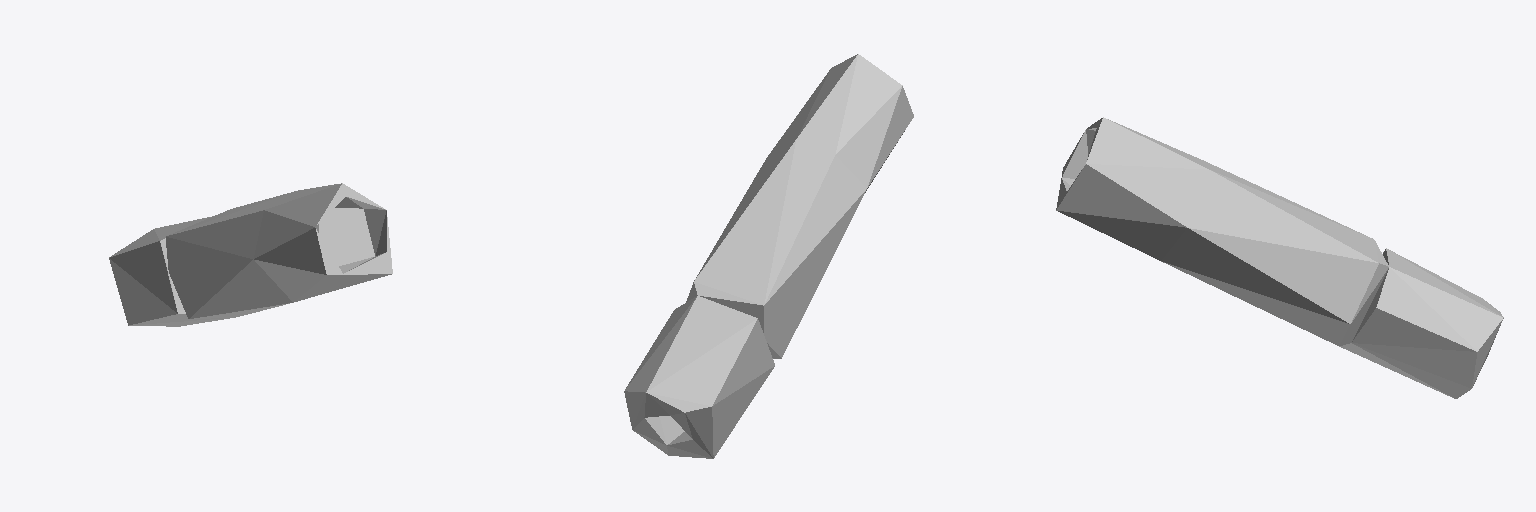
Rendered from cranialbomb.obj.
3 views of the same model, side by side, from view 1: azimuth 30°, elevation 25°; view 2: azimuth 150°, elevation 25°; view 3: azimuth 270°, elevation 25° (orthographic).
Parts seen in each view (by area): view 1: cranialbomb; view 2: cranialbomb; view 3: cranialbomb.
Boxes of the visible parts, box(x1,y1,x2,y2) form: cranialbomb: box(109, 183, 392, 326); cranialbomb: box(624, 54, 913, 458); cranialbomb: box(1056, 117, 1503, 398).
Size of the model in its own units: 0.0957 by 0.2484 by 0.3651.